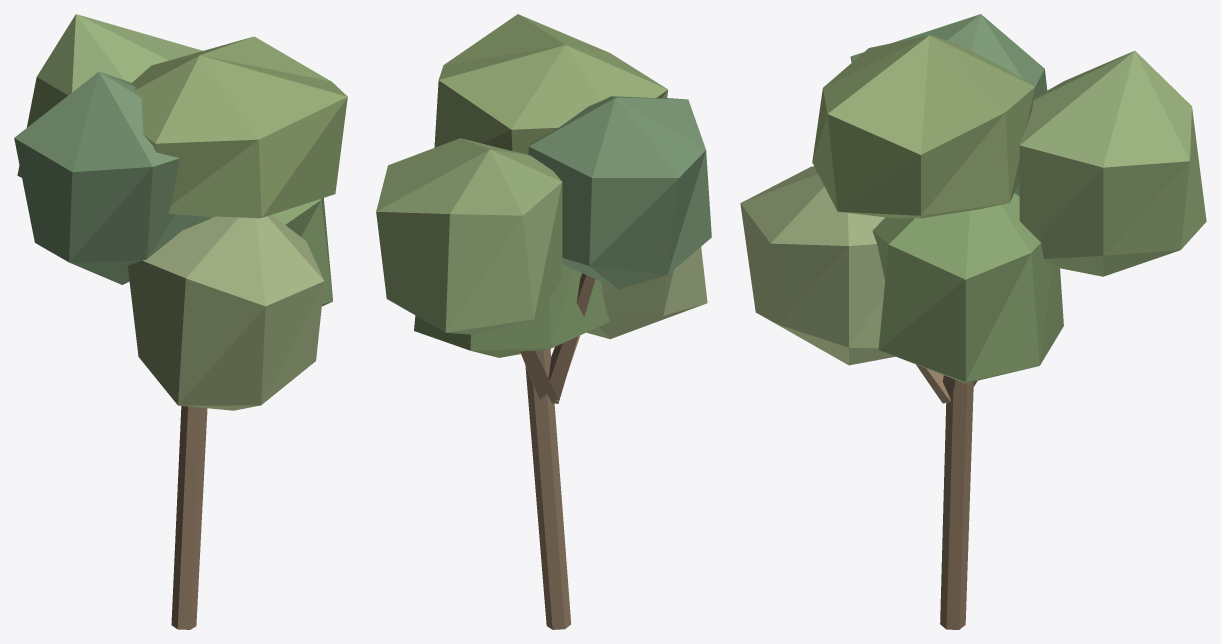
3 views of the same model, side by side, from view 1: azimuth 30°, elevation 25°; view 2: azimuth 150°, elevation 25°; view 3: azimuth 270°, elevation 25° (orthographic). The views are drawn at different scales.
Bounding box in the file's own units: 2.68 × 5.11 × 3.65.
